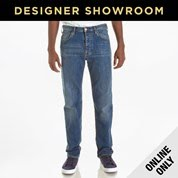jeans: (58, 25, 122, 155)
